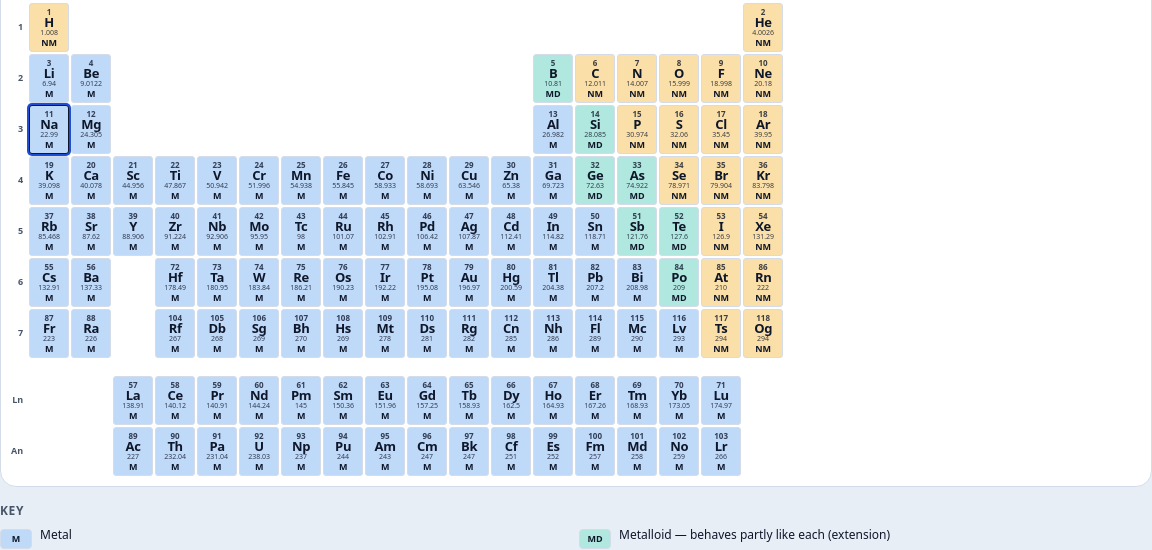
Test: PeriodicTable — the detail panel › says a d-block element forms no single ion rather than inventing one
Click the button "26 Fe 55.845 M" at {"x": 343, "y": 180}, box 323,156 -> 363,204
(page scrolled)
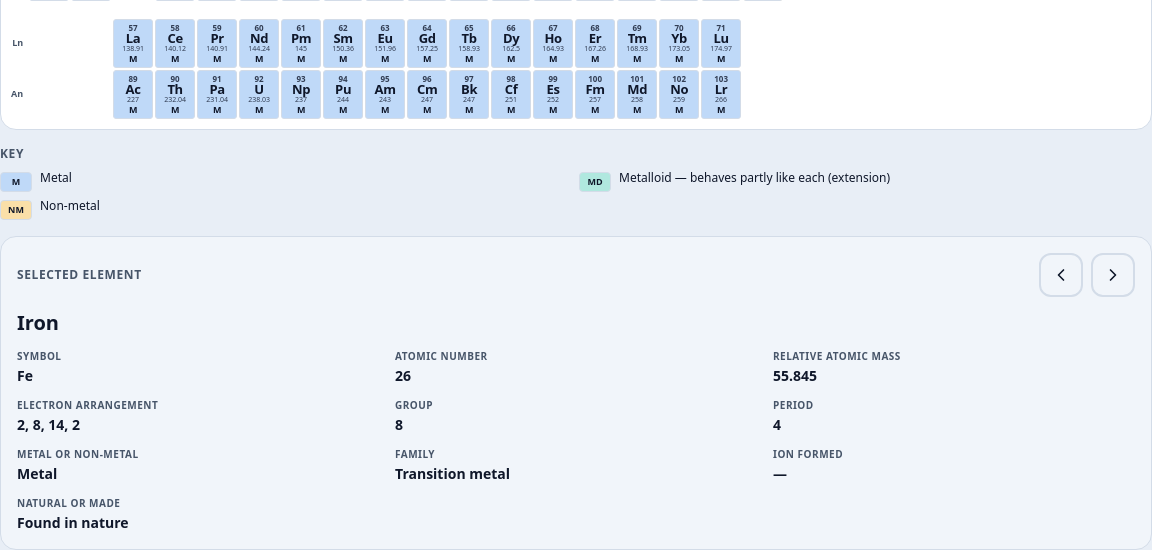
Check: the text "2, 8, 14, 2" is shown, box 17,414 -> 80,434
Check: the text "—" is shown, box 773,464 -> 787,482
